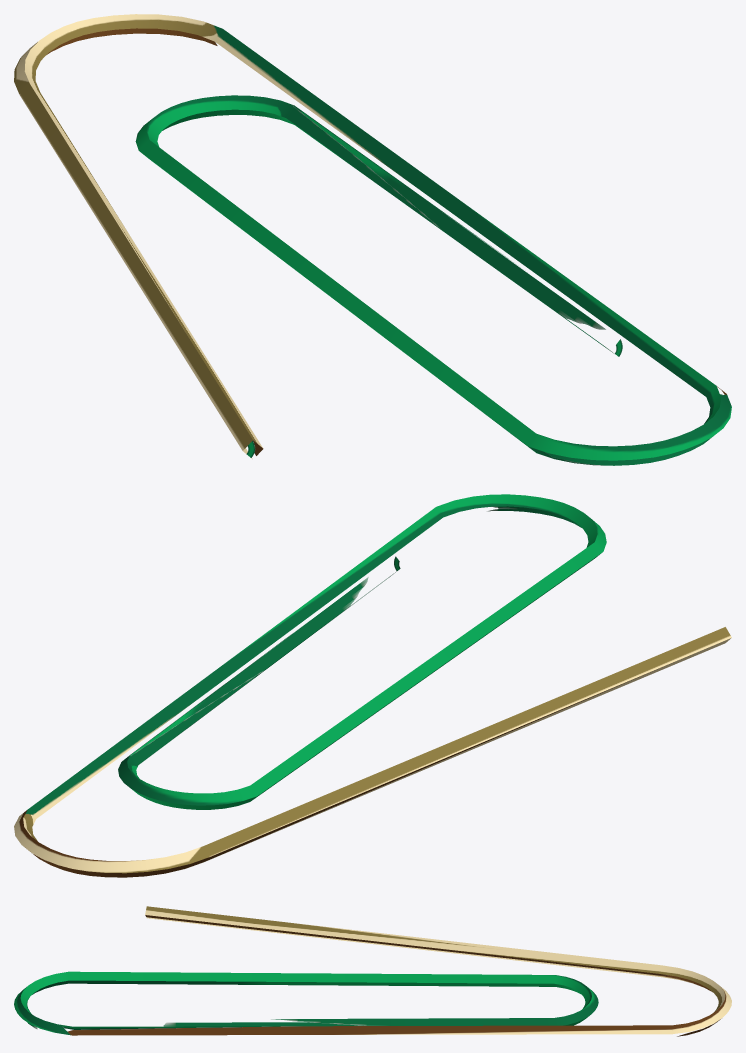
File: SM_Trinket_PaperClip.fbx
3 views of the same model, one above another, from view 1: azimuth 30°, elevation 25°; view 2: azimuth 150°, elevation 25°; view 3: azimuth 270°, elevation 25° (orthographic). The views are drawn at different scales.
Visible parts, largest first — view 1: paperc; view 2: paperc; view 3: paperc.
Boxes of the visible parts, bbox=[...] form: paperc: bbox=[14, 14, 731, 465]; paperc: bbox=[14, 494, 731, 877]; paperc: bbox=[14, 906, 731, 1036].
Size of the model in its own units: 1.37 by 0.0607 by 3.31.
